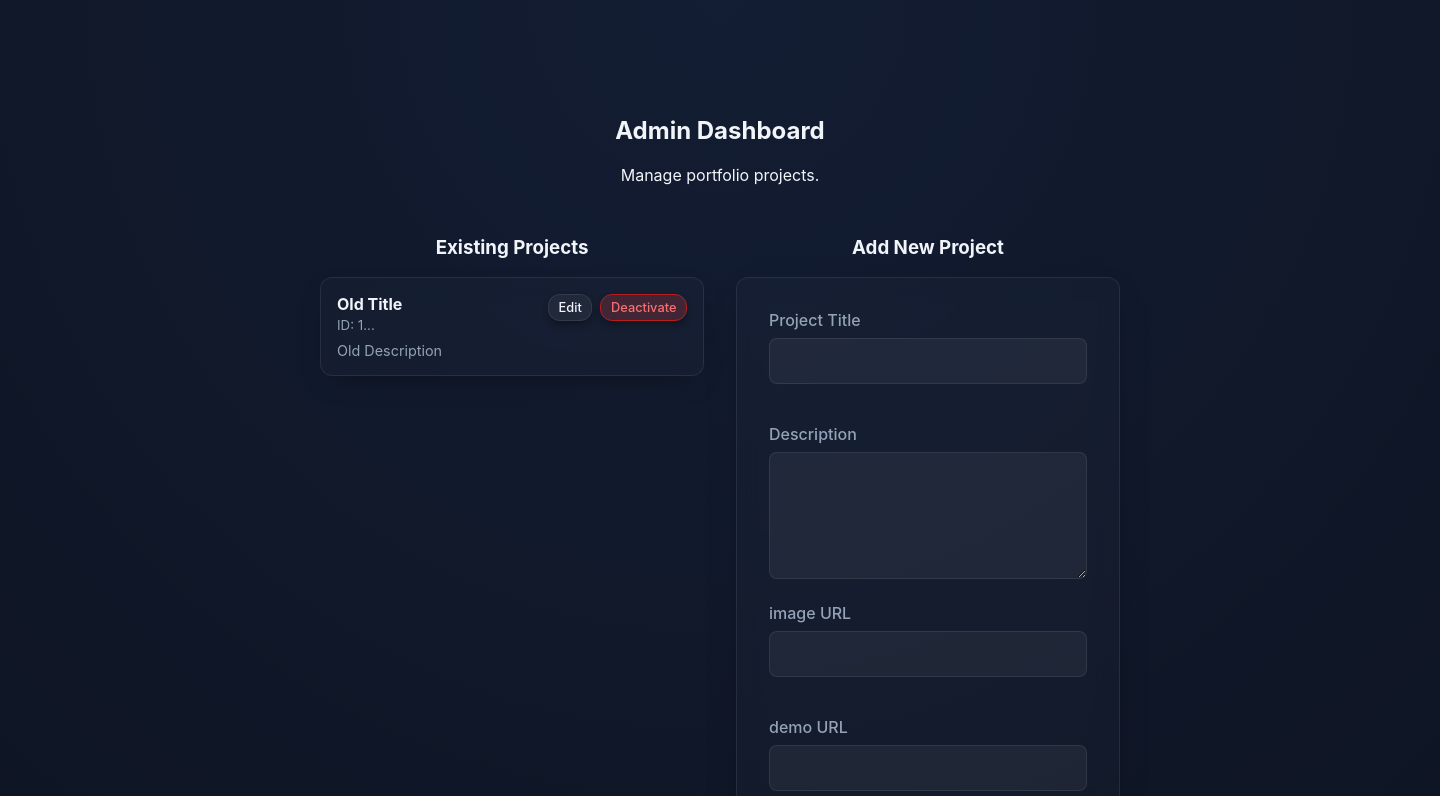
Scenario: AdminDashboard › edits a project
Click the button "Edit" at (570, 308), box [548,294,592,321]
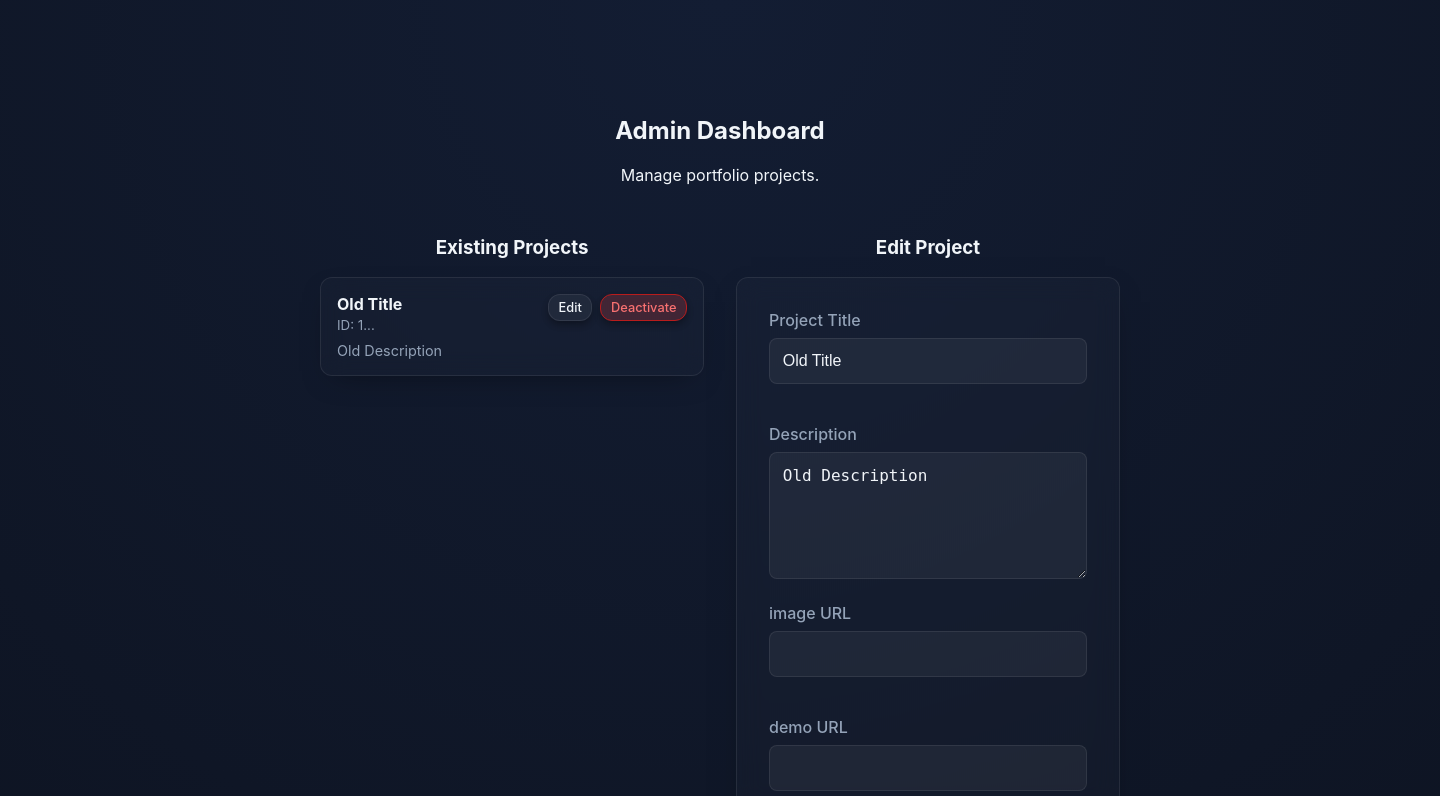
Check: the field labelled "Project Title" holds "Old Title"
Replace the text in the field labelled "Project Title" with "New Title" at (928, 361), box [769,338,1087,384]
(page scrolled)
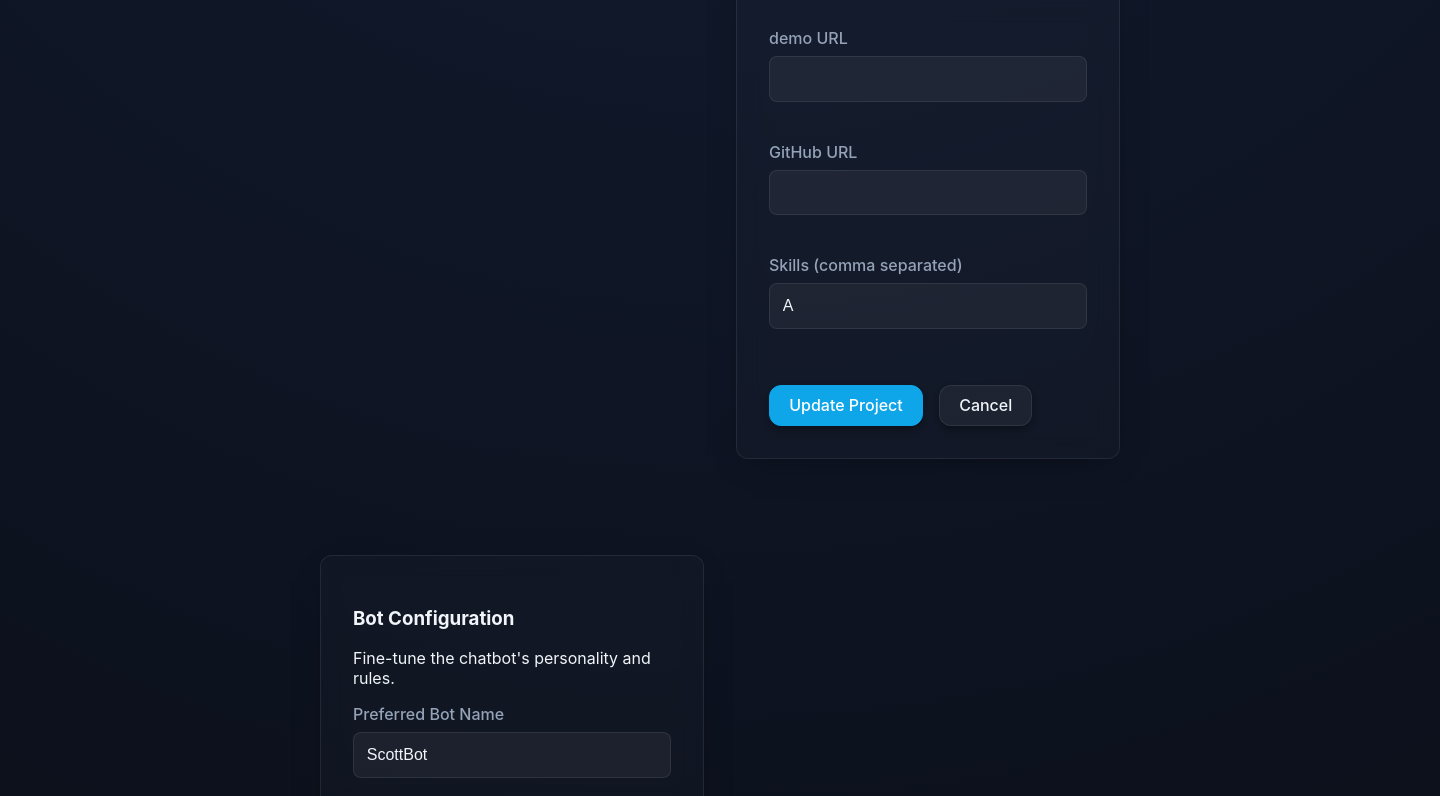
Click the button "Update Project" at (846, 405), box [769,385,923,426]
(page scrolled)
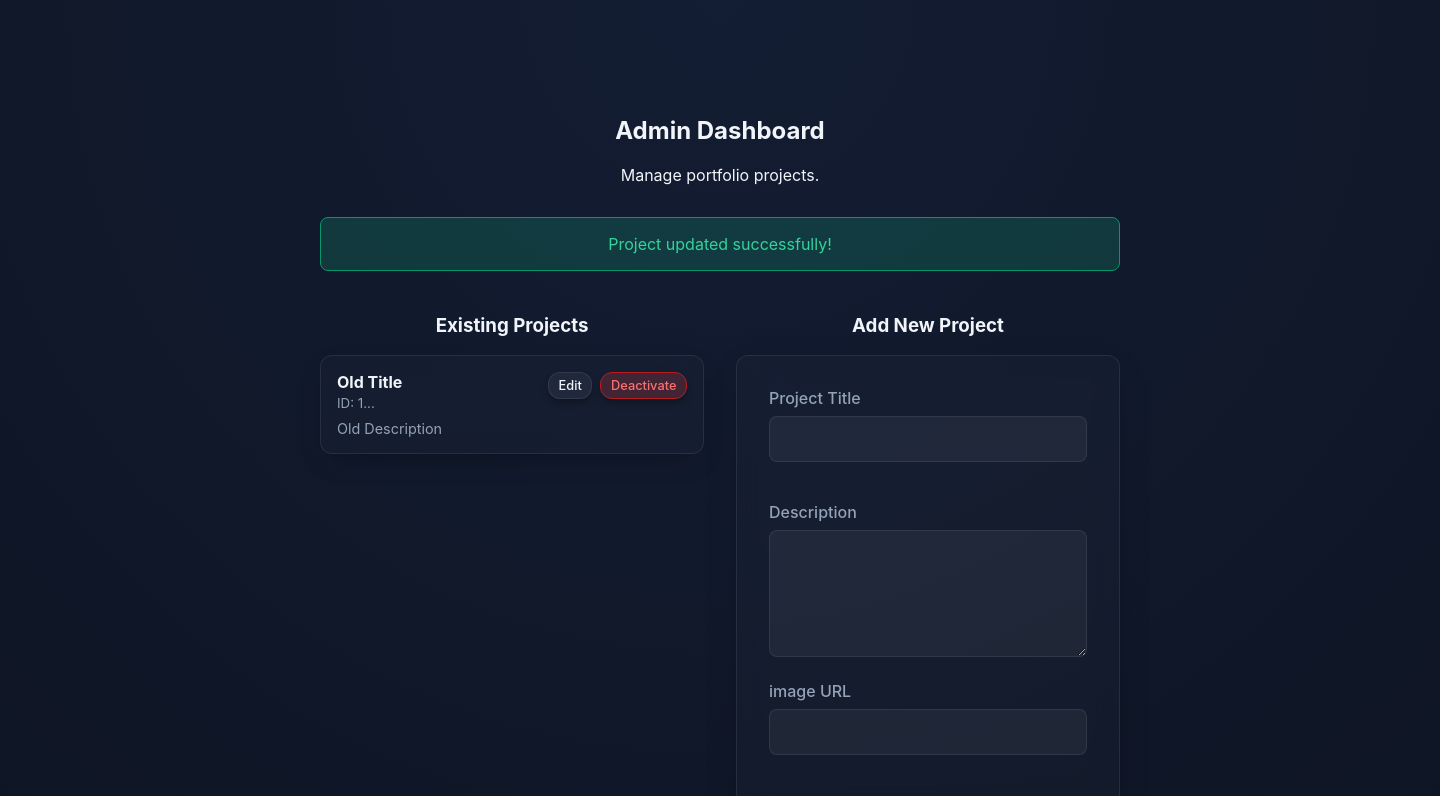
Check: the text "Project updated successfully!" is shown, box [320,217,1120,271]
